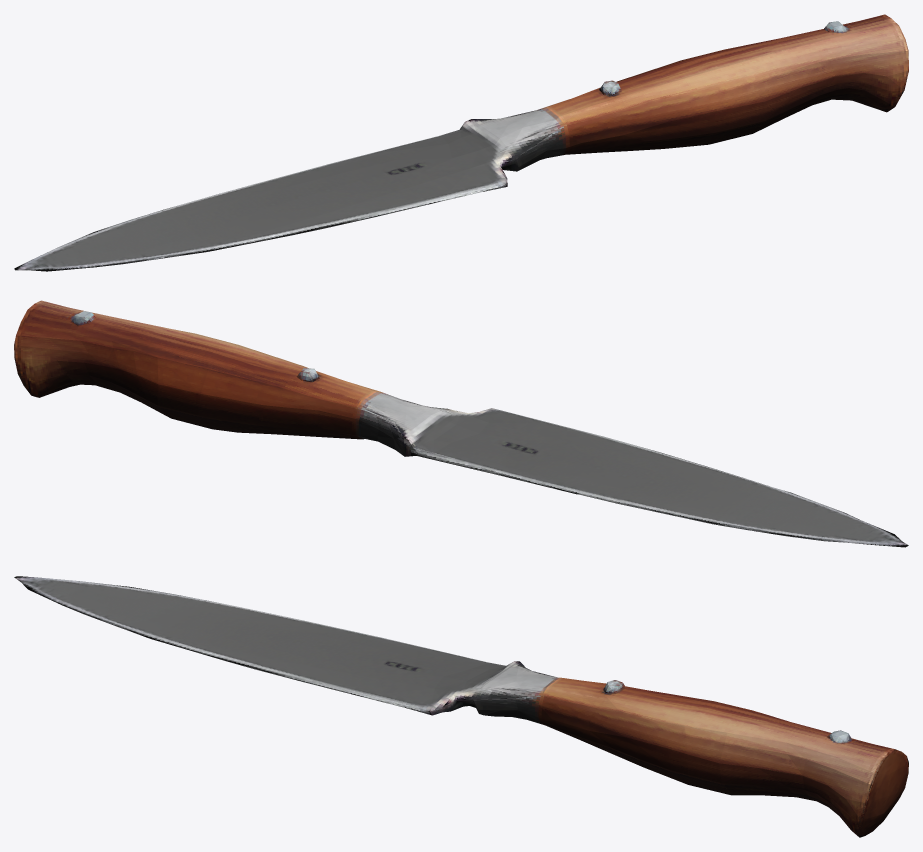
The model's file is wooden-steak-knife-handle-futuristic.jpeg.glb.
3 renders of one model, top to bottom at view 1: azimuth 30°, elevation 25°; view 2: azimuth 150°, elevation 25°; view 3: azimuth 330°, elevation 25°, orthographic.
Visible parts, largest first — view 1: world; view 2: world; view 3: world.
Boxes of the visible parts, x1,y1,x2,y2 form: world: (14,14,908,271); world: (14,300,908,547); world: (14,576,908,837).
Size of the model in its own units: 1 by 0.0975 by 0.1307.
Materials: 1 (1 with a texture image).
